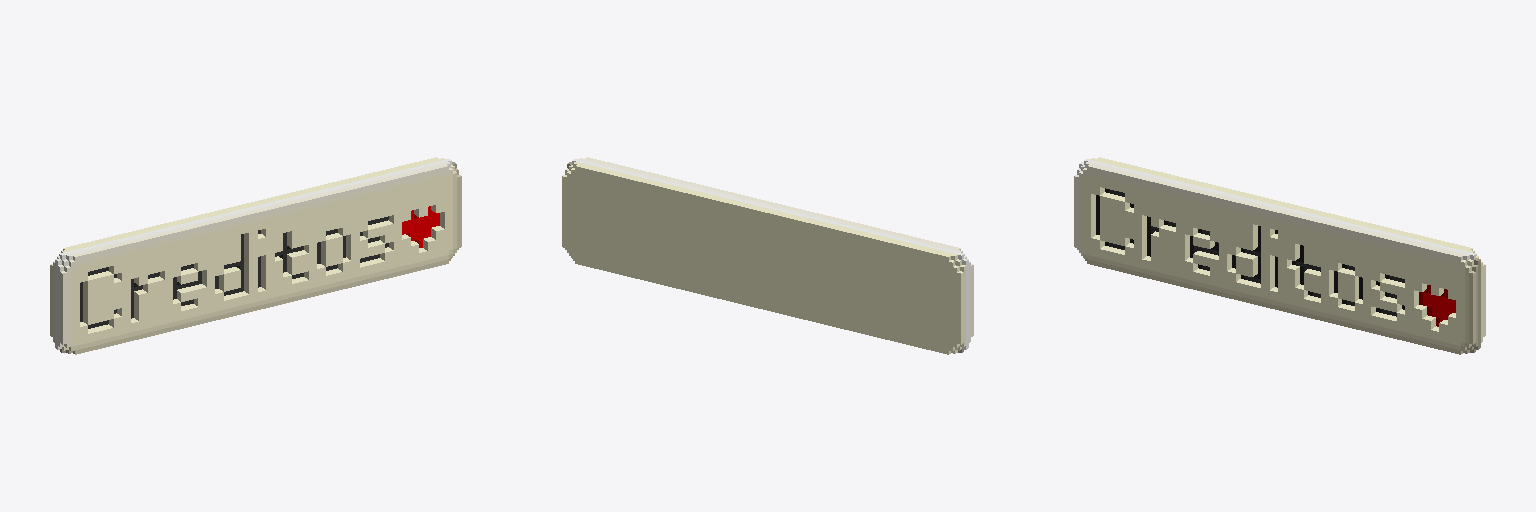
The picture shows the model from 3 angles: view 1: azimuth 30°, elevation 25°; view 2: azimuth 150°, elevation 25°; view 3: azimuth 330°, elevation 25°; orthographic projection.
Parts seen in each view (by area): view 1: object 1; view 2: object 1; view 3: object 1.
Boxes of the visible parts, <box> form: object 1: <box>50,157,461,354</box>; object 1: <box>562,157,973,354</box>; object 1: <box>1074,157,1485,354</box>.
Size of the model in its own units: 9.4 by 2.2 by 0.5.
Materials: 1 (1 with a texture image).